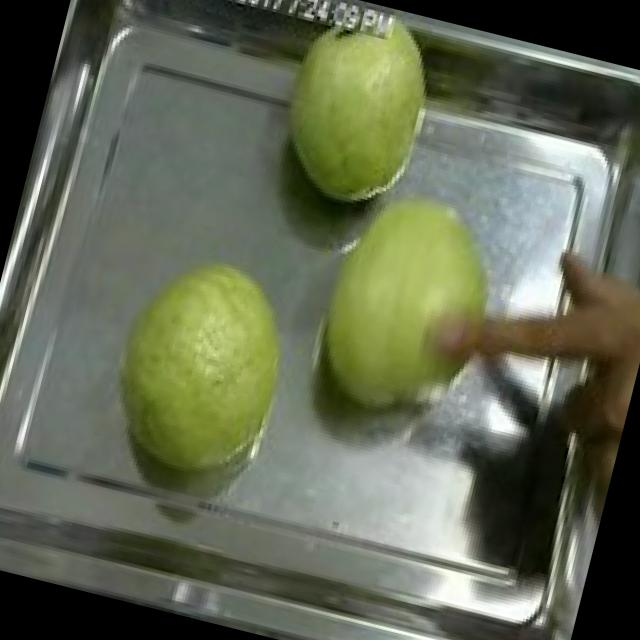Fruit: (287, 162, 536, 448), (86, 230, 324, 498), (253, 0, 458, 230)
